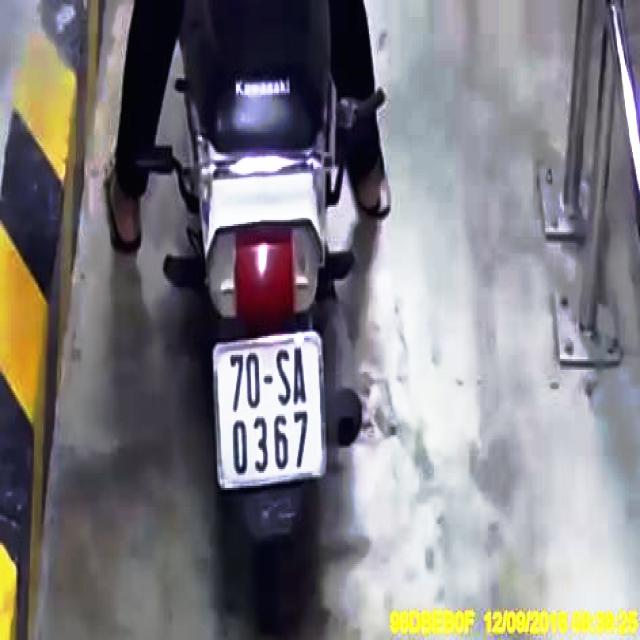license_plate: (213, 336, 323, 487)
